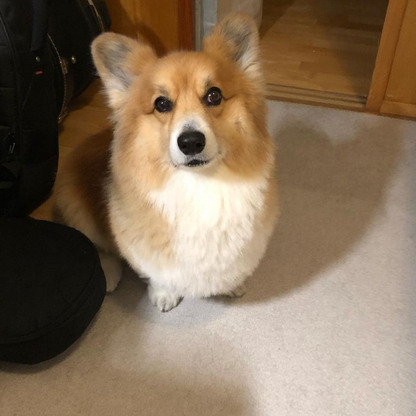Corgi: (85, 23, 288, 327)
